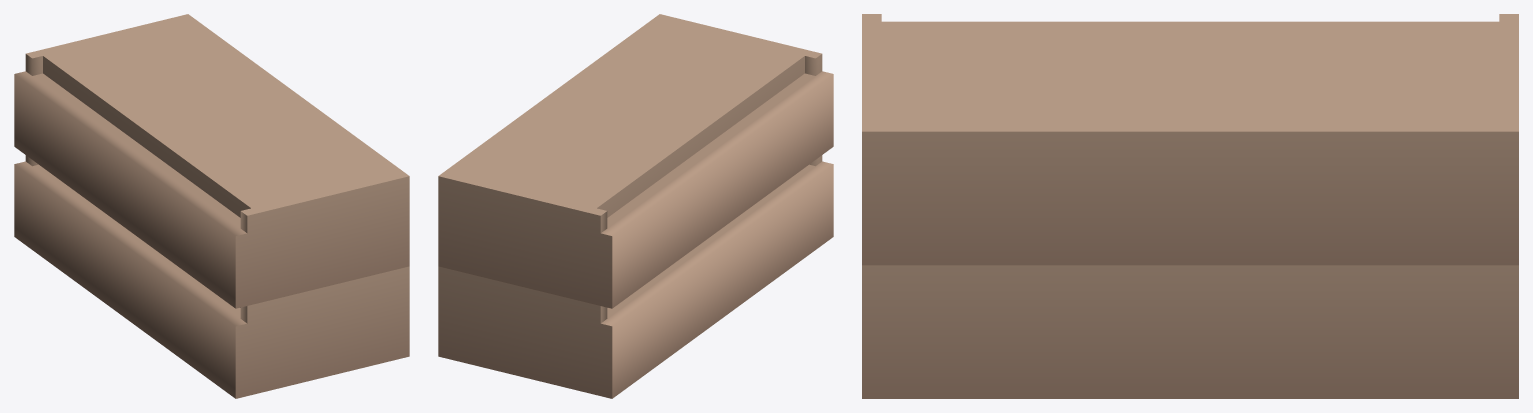
Rendered from sink-hanging-cabinets-double-no-sink (%wall).glb.
3 views of the same model, side by side, from view 1: azimuth 30°, elevation 25°; view 2: azimuth 150°, elevation 25°; view 3: azimuth 270°, elevation 25° (orthographic). The views are drawn at different scales.
Parts seen in each view (by area): view 1: sink-hanging-cabinets-double-no-sink (%wall); view 2: sink-hanging-cabinets-double-no-sink (%wall); view 3: sink-hanging-cabinets-double-no-sink (%wall).
Part boxes in pixels (bbox=[...]): sink-hanging-cabinets-double-no-sink (%wall): bbox=[14, 14, 409, 398]; sink-hanging-cabinets-double-no-sink (%wall): bbox=[438, 14, 833, 398]; sink-hanging-cabinets-double-no-sink (%wall): bbox=[862, 14, 1518, 398].
Size of the model in its own units: 0.4037 by 0.4 by 0.8905.
